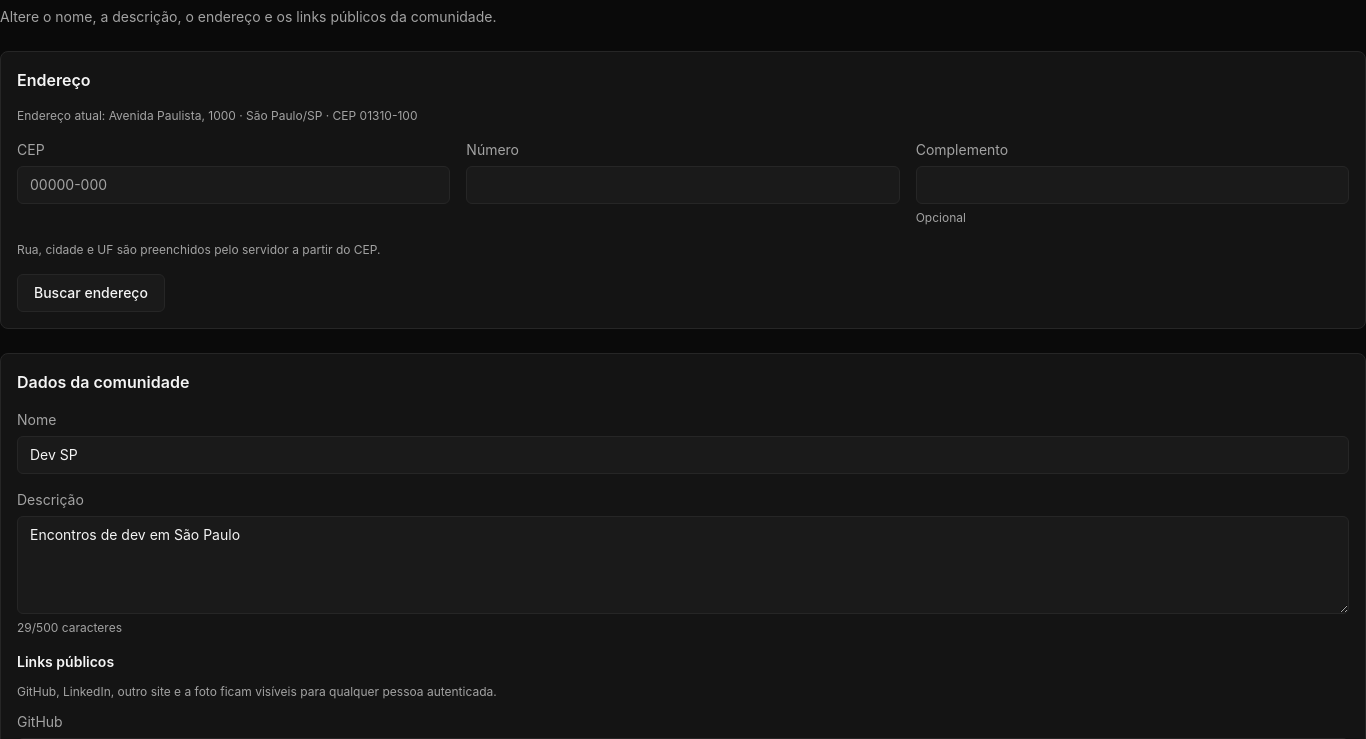
EditCommunityPage › descrição vazia é barrada localmente (o backend não aceita limpar)
Clear the text box labelled "Descrição" at (683, 565), box [17,516,1349,614]
(page scrolled)
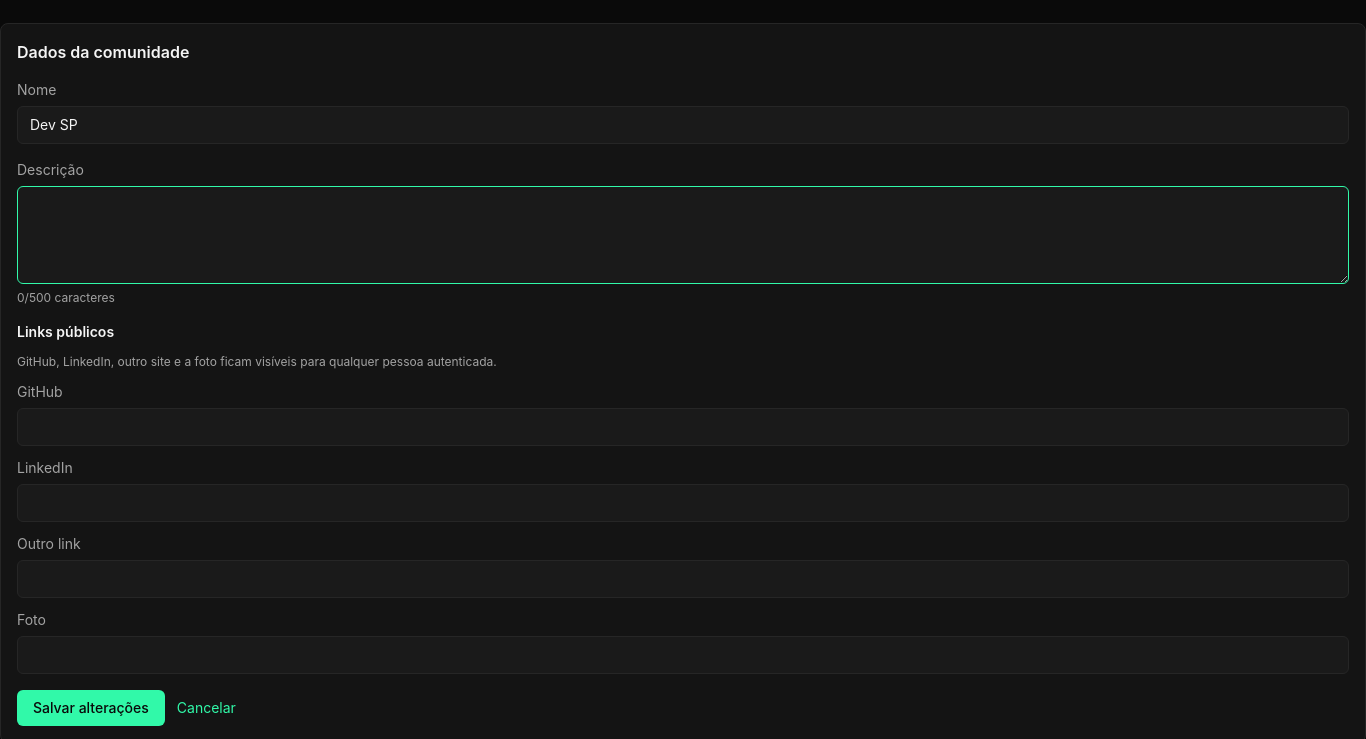
Click the button "Salvar alterações".
click(91, 708)  # box [17,690,165,726]
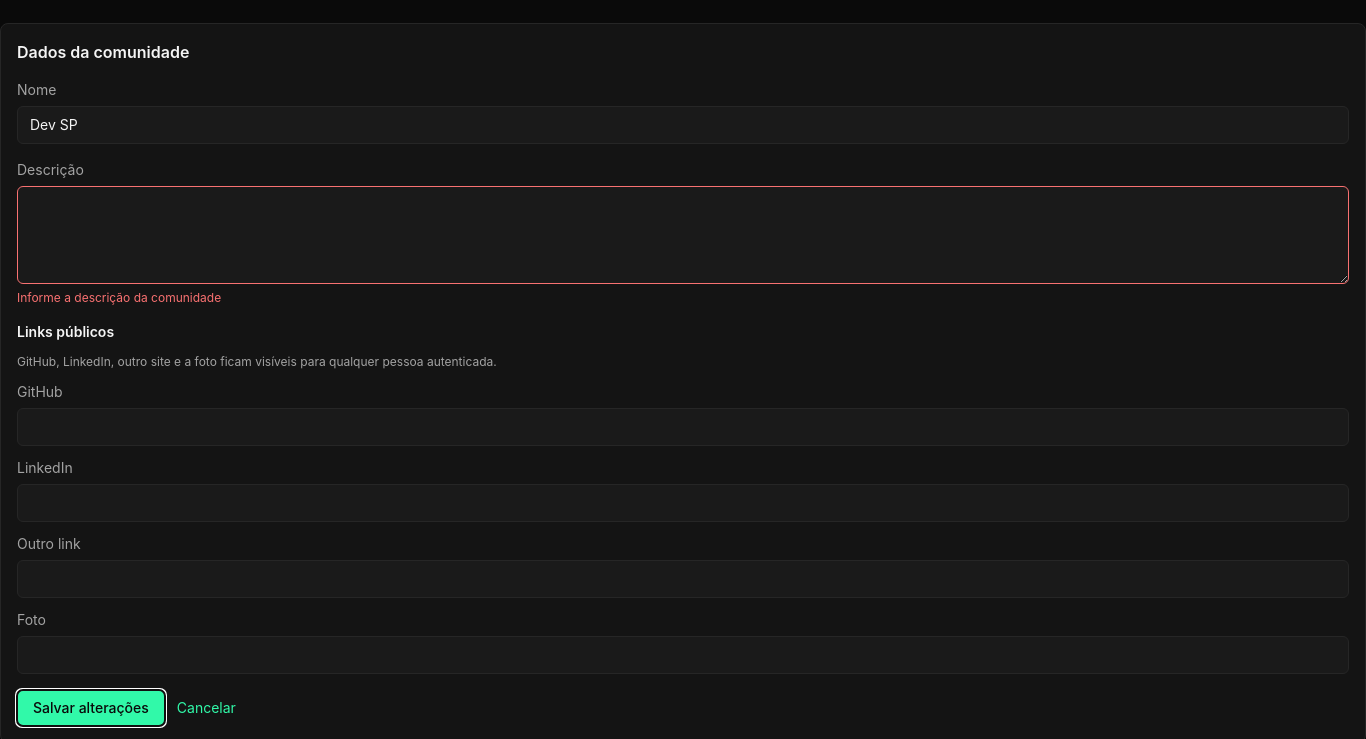
Expected: the text "Informe a descrição da comunidade" is shown, [17,290,221,305]
